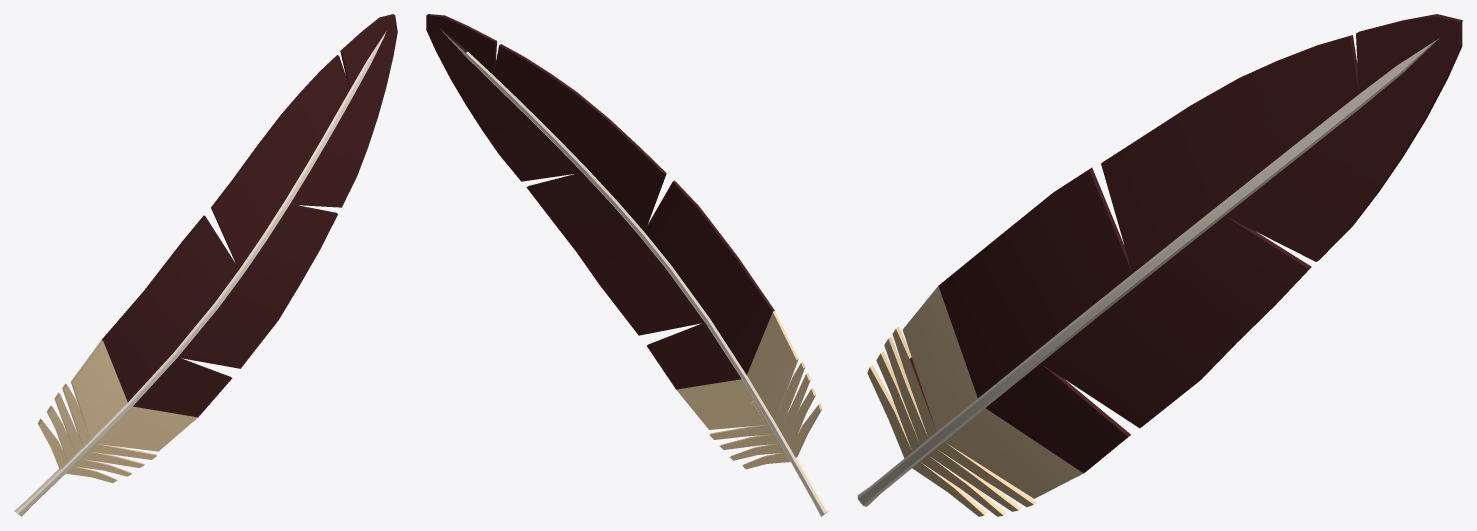
The model's file is feather.glb.
3 views of the same model, side by side, from view 1: azimuth 30°, elevation 25°; view 2: azimuth 150°, elevation 25°; view 3: azimuth 330°, elevation 25° (orthographic). The views are drawn at different scales.
Parts seen in each view (by area): view 1: Plane.159; view 2: Plane.159; view 3: Plane.159.
Part boxes in pixels (x1,y1,x2,y2): Plane.159: [14, 14, 397, 516]; Plane.159: [426, 14, 828, 516]; Plane.159: [857, 14, 1462, 516].
Bounding box in the file's own units: 1.91 × 1.91 × 0.2761.
Materials: 1 (1 with a texture image).
